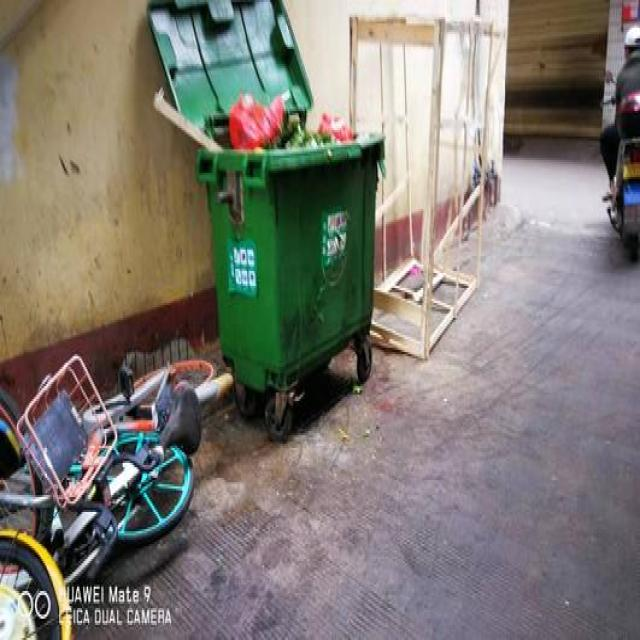overflow: (152, 85, 384, 388)
